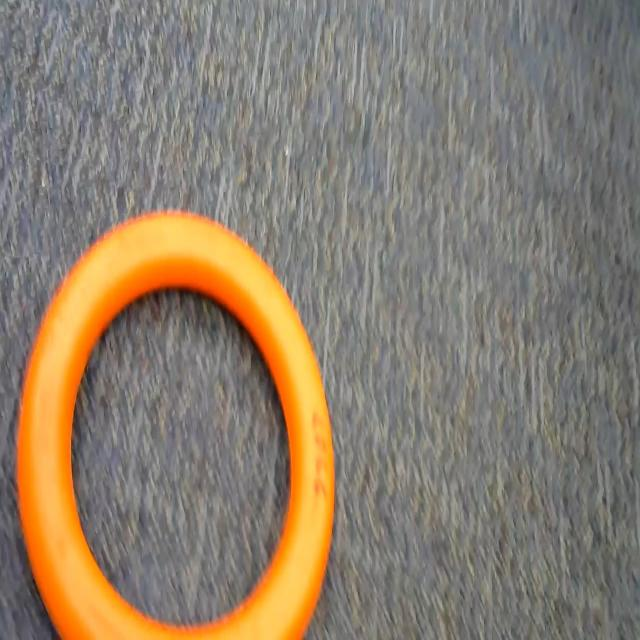note: (12, 210, 346, 640)
